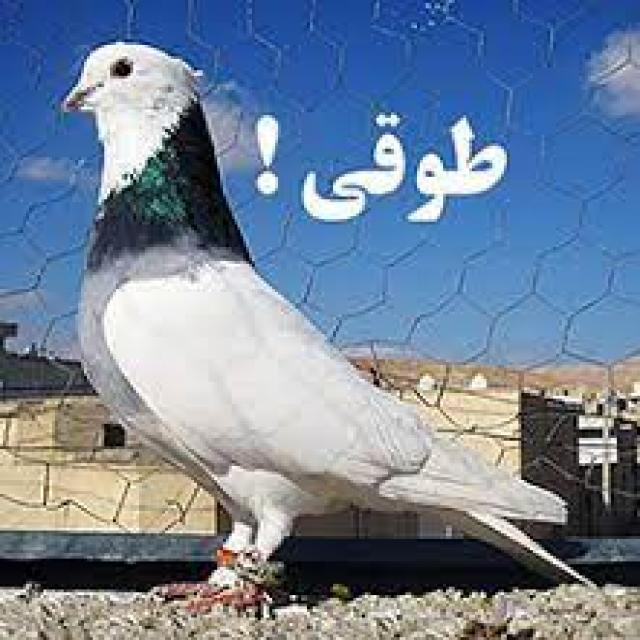bird: (55, 39, 604, 630)
